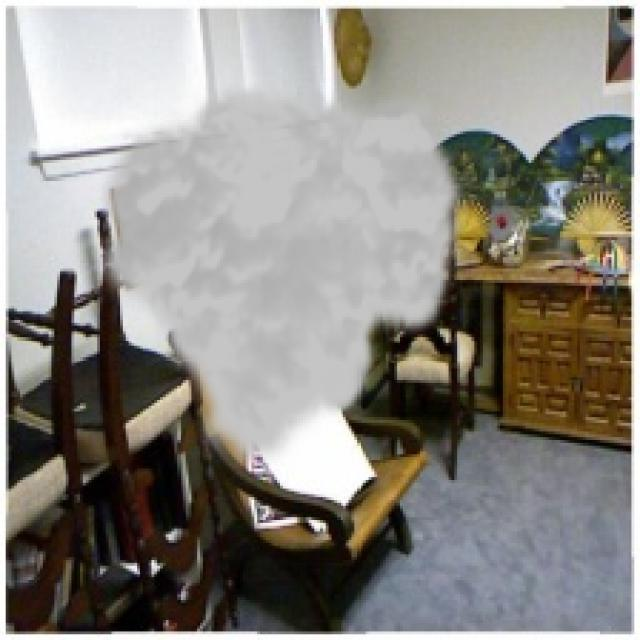Smoke: (89, 80, 468, 472)
